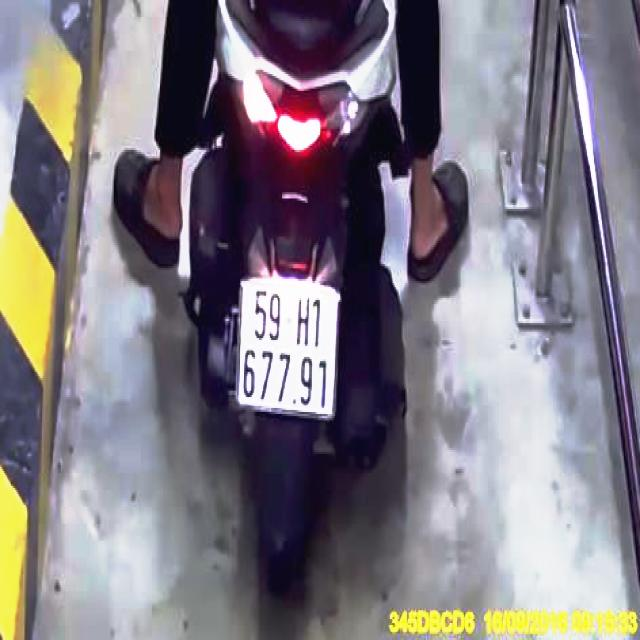license_plate: (240, 281, 339, 417)
